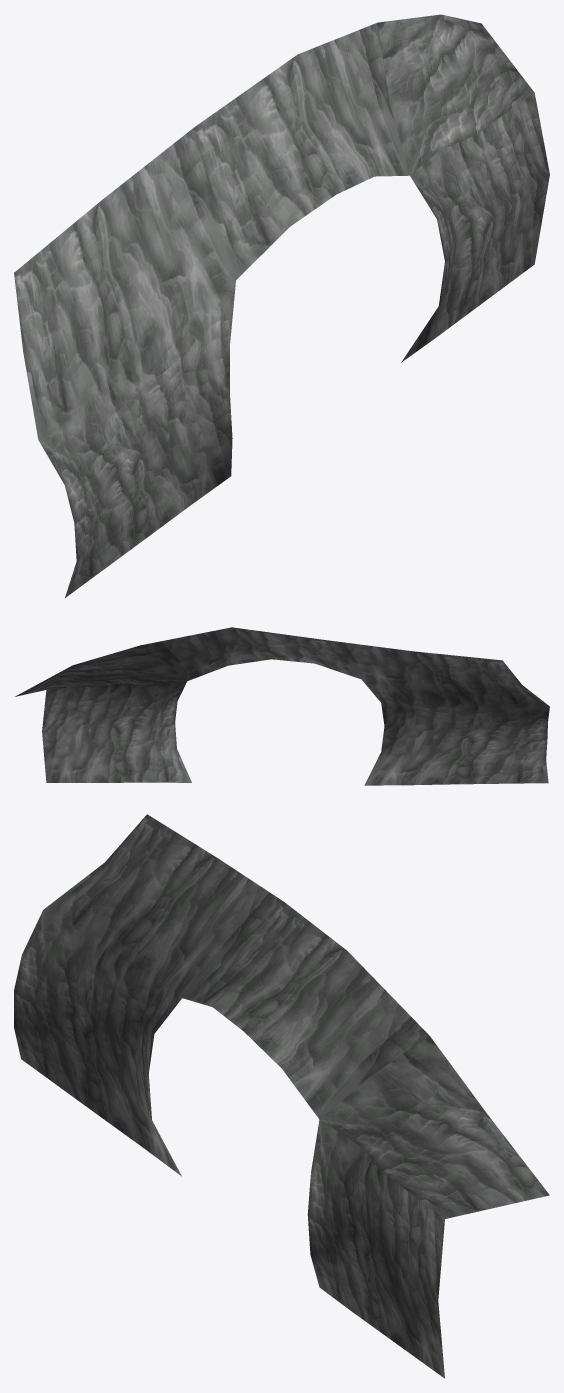
Rendered from SWORDLIGHT20_PS-AREA04_20.fbx.
3 views of the same model, one above another, from view 1: azimuth 30°, elevation 25°; view 2: azimuth 150°, elevation 25°; view 3: azimuth 270°, elevation 25° (orthographic). The views are drawn at different scales.
Parts seen in each view (by area): view 1: SWORDLIGHT20_PS-AREA04_20; view 2: SWORDLIGHT20_PS-AREA04_20; view 3: SWORDLIGHT20_PS-AREA04_20.
Boxes of the visible parts, box(x1,y1,x2,y2) form: SWORDLIGHT20_PS-AREA04_20: box(14, 14, 549, 597); SWORDLIGHT20_PS-AREA04_20: box(15, 627, 549, 785); SWORDLIGHT20_PS-AREA04_20: box(14, 814, 549, 1378).
Size of the model in its own units: 156745 by 66035 by 108062.
Materials: 1 (1 with a texture image).
